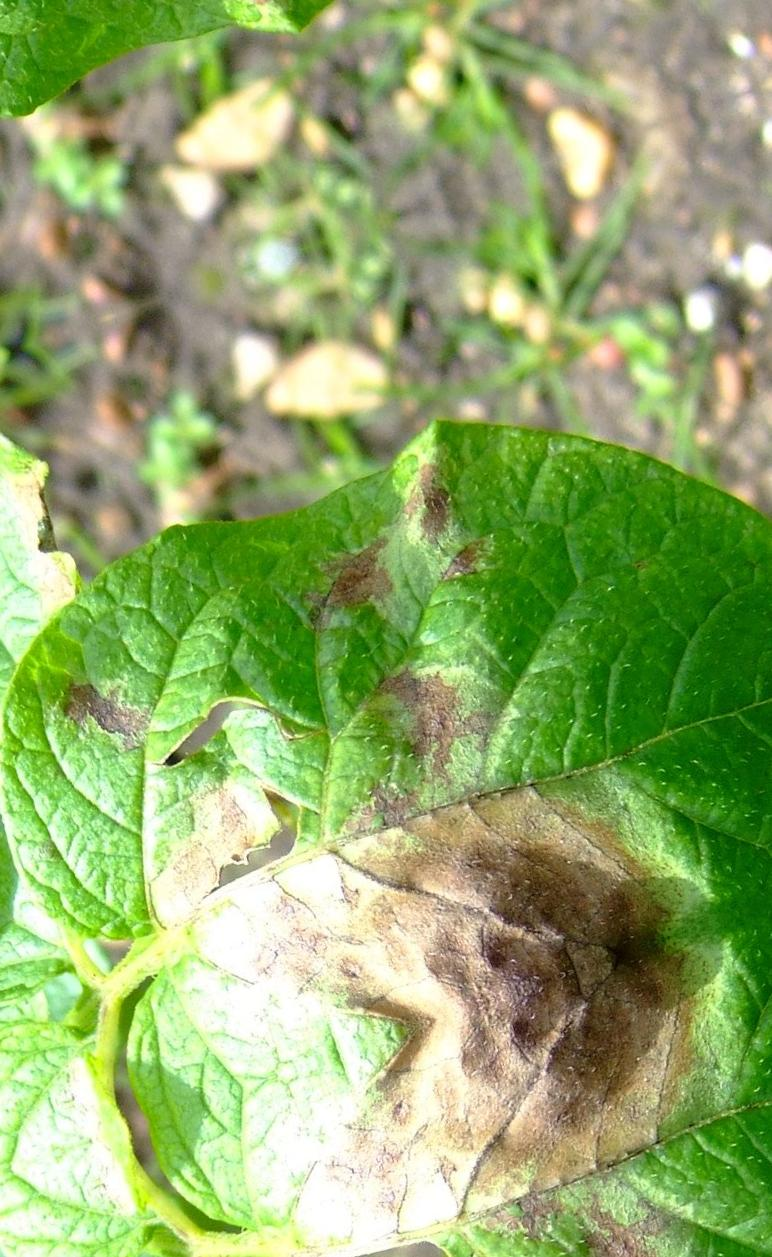Tomato leaf late blight: (0, 275, 772, 1132)
